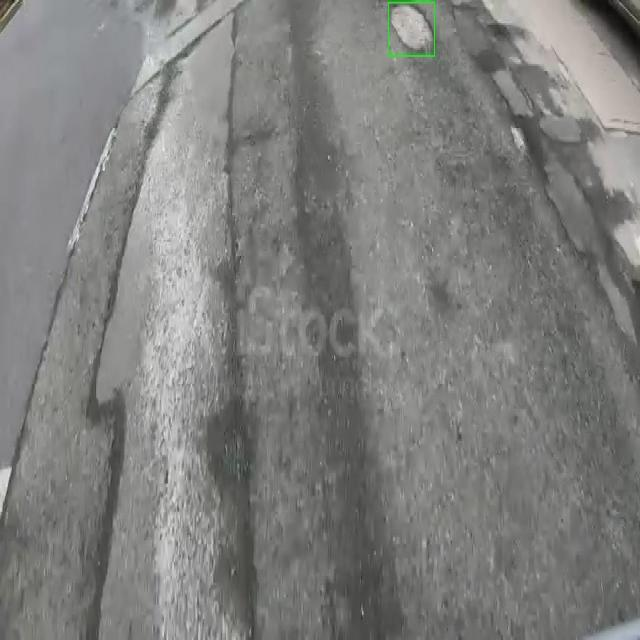pothole: (390, 4, 434, 52)
